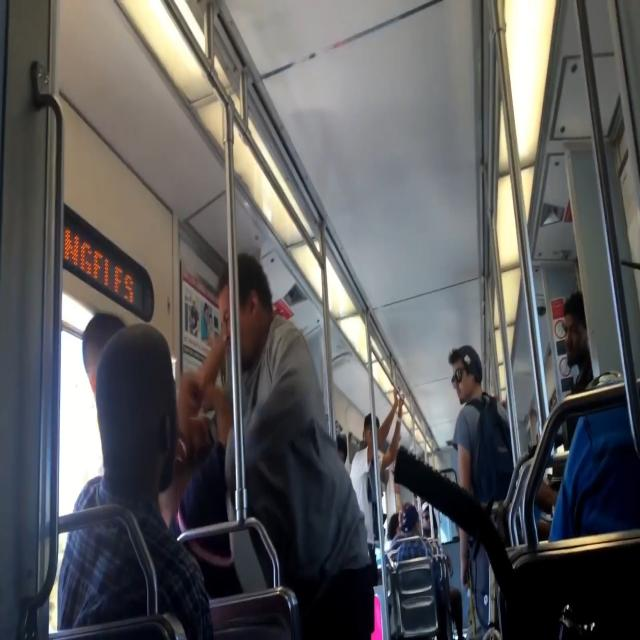fight: (78, 251, 332, 640)
